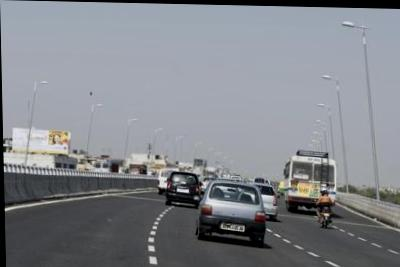License_Plate: (219, 221, 246, 232)
